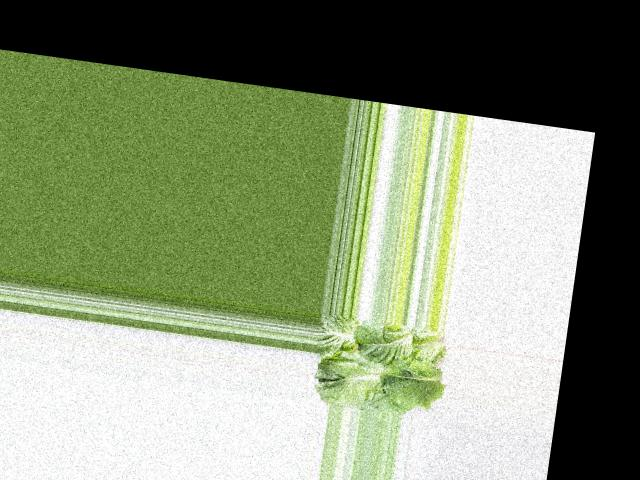lettuce: (311, 312, 449, 417)
